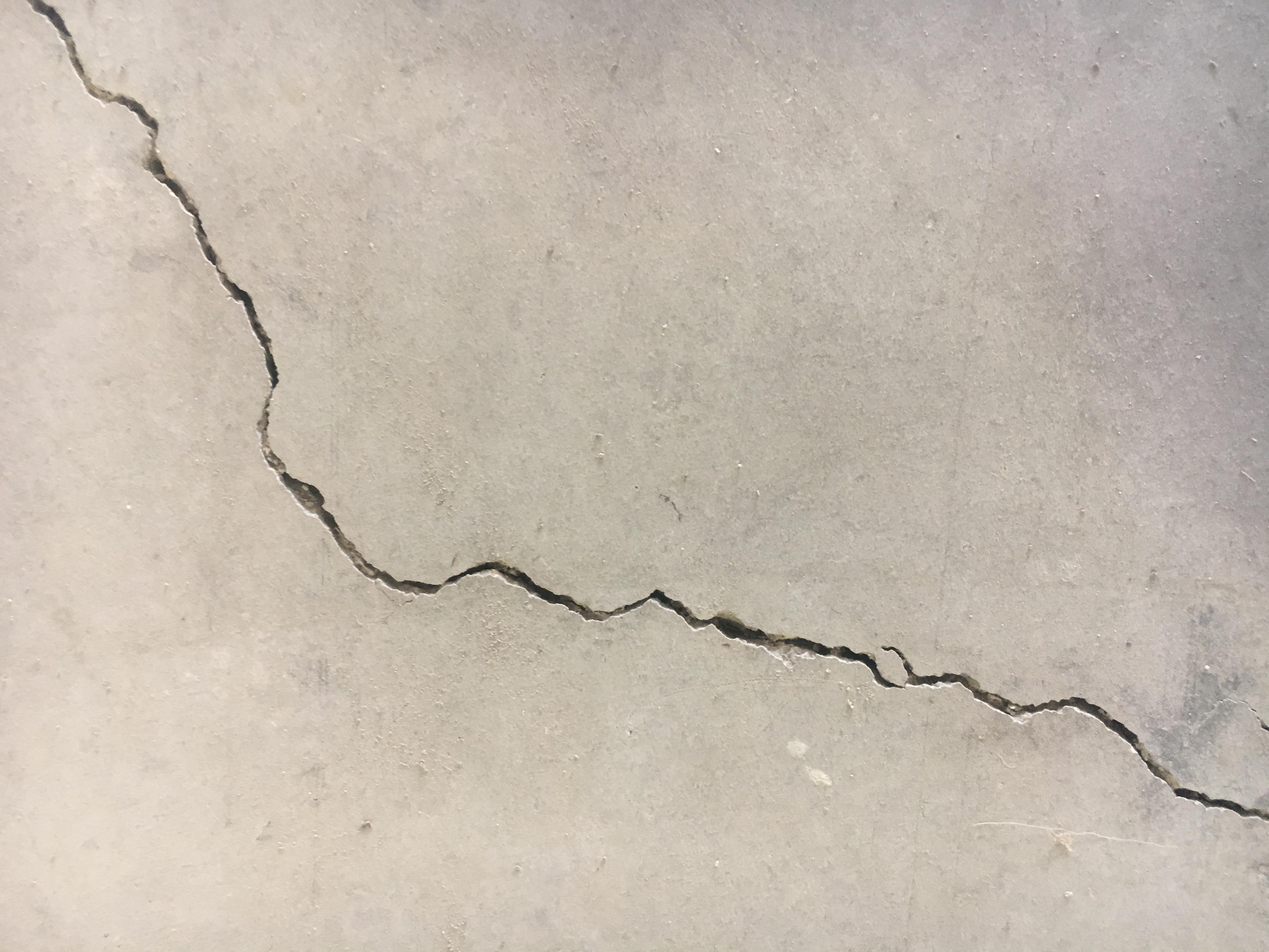Diagonal Crack: (26, 2, 1264, 824)
